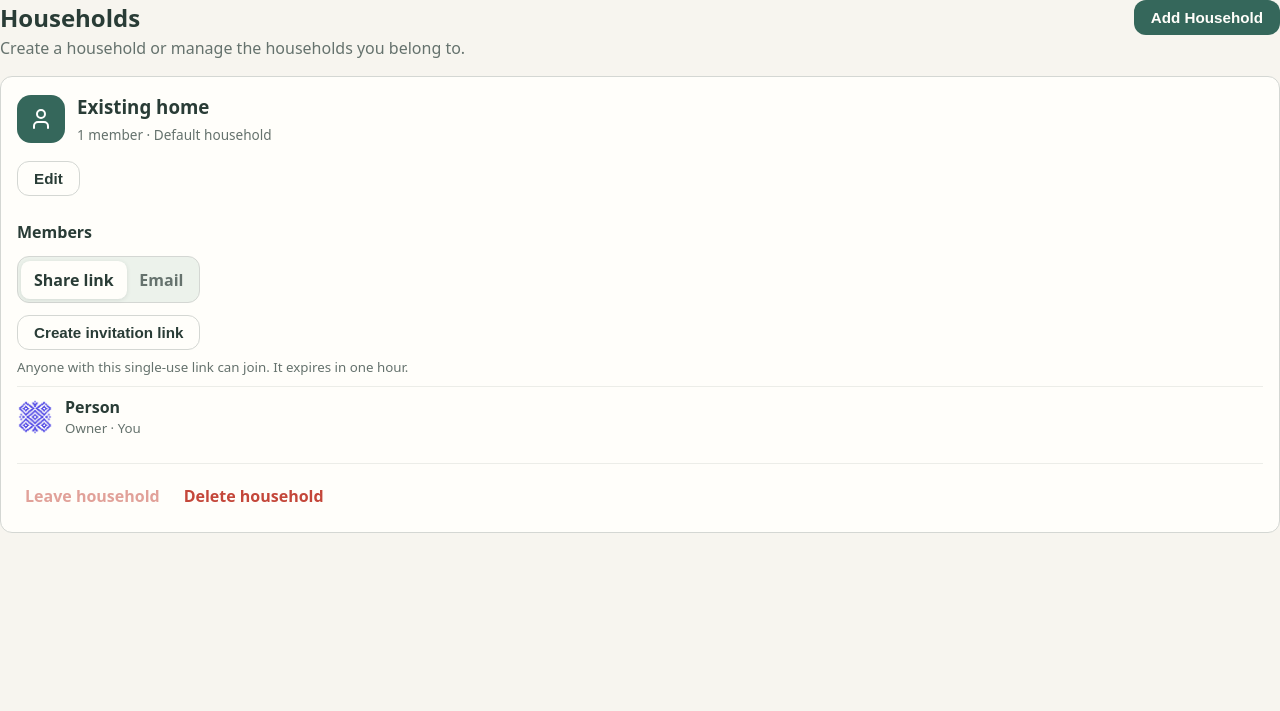
Scenario: household currency settings › opens household creation in a modal when the user already has a household
expect the field labelled "Name" is not shown: met
Click the button "Add Household" at [1207, 18], box [1134,0,1279,35]
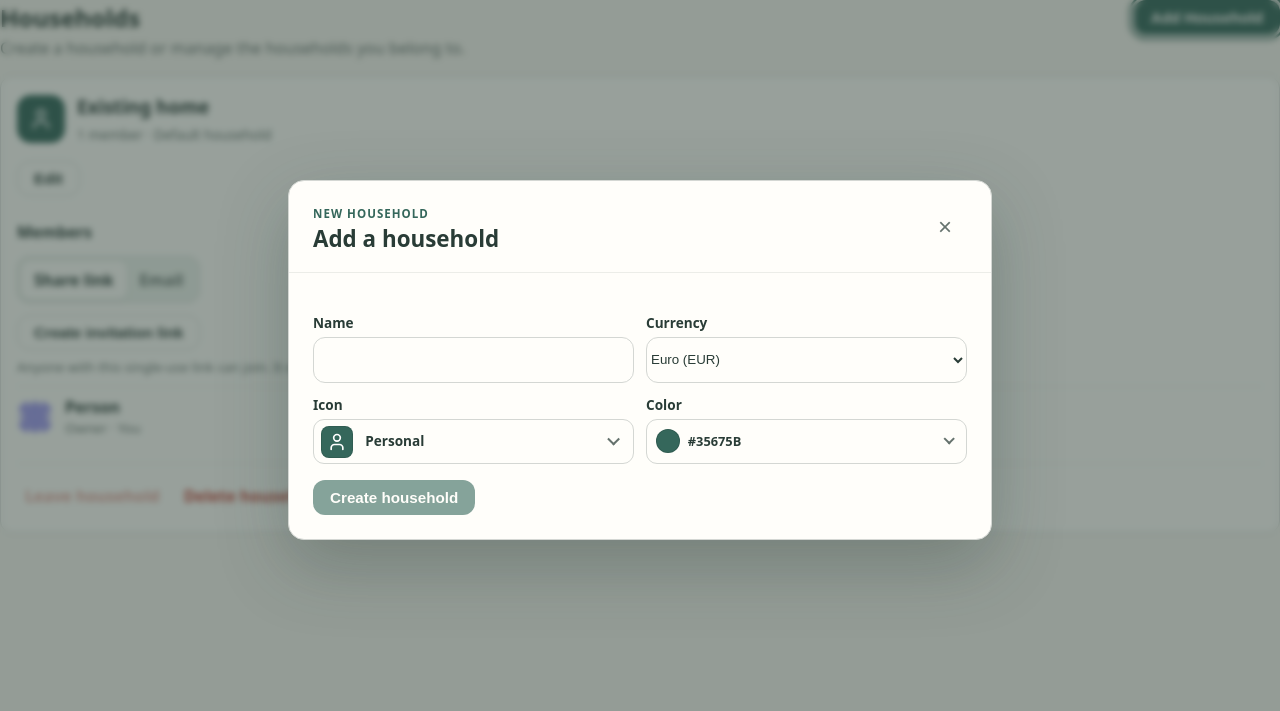
Type "Second home" into the field labelled "Name" at [474, 360], box [313,337,634,383]
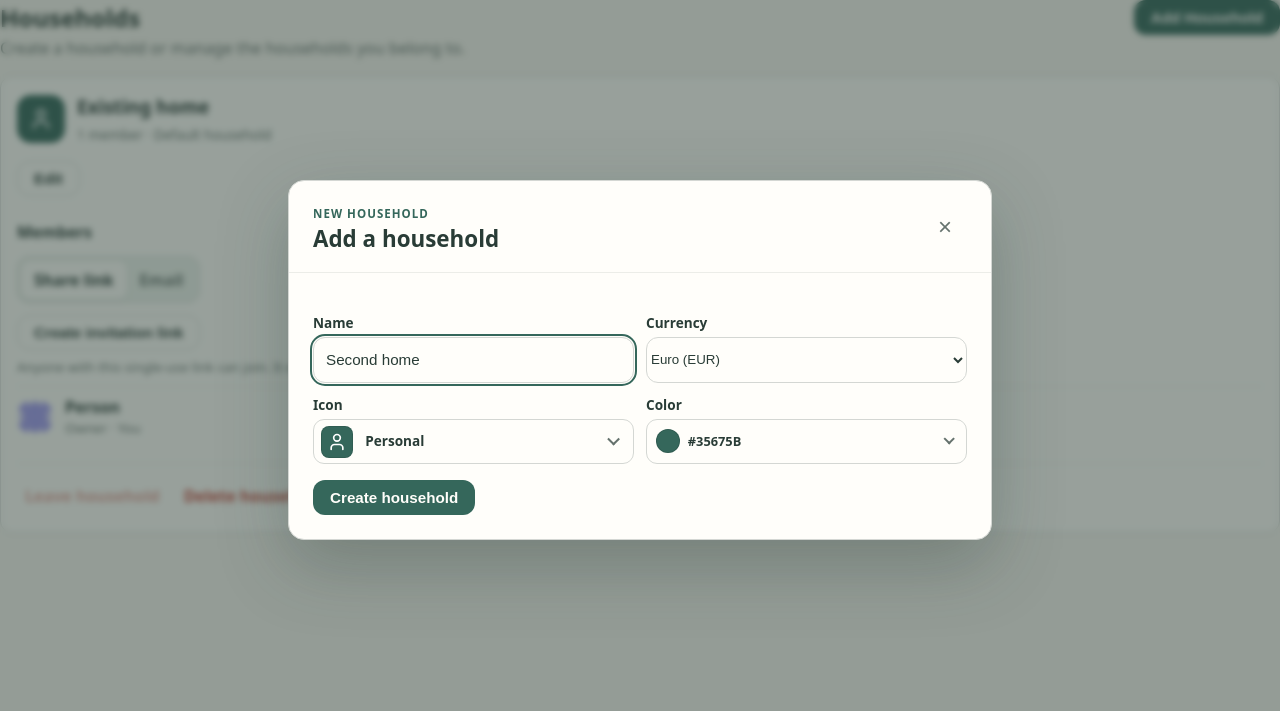
Select "US dollar (USD)" in the dropdown labelled "Currency" at [806, 360], box [646,337,967,383]
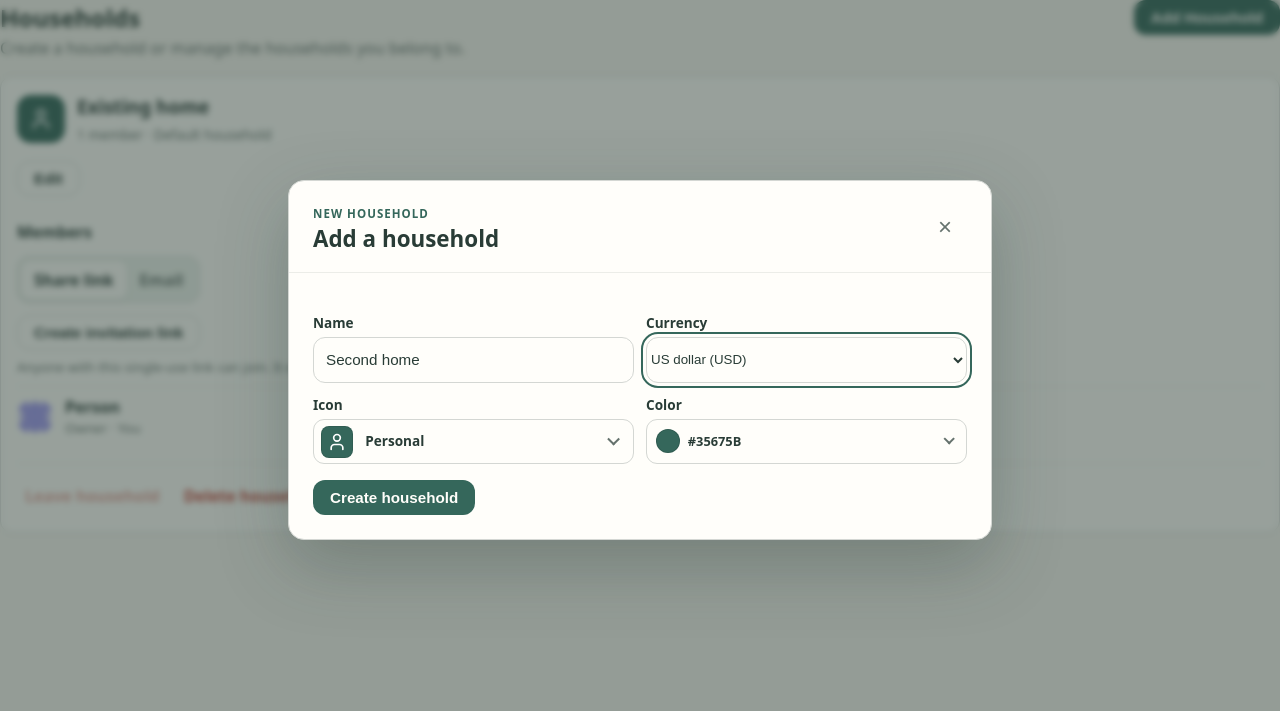
Click the button "Create household" at [394, 498], box [313,480,475,515]
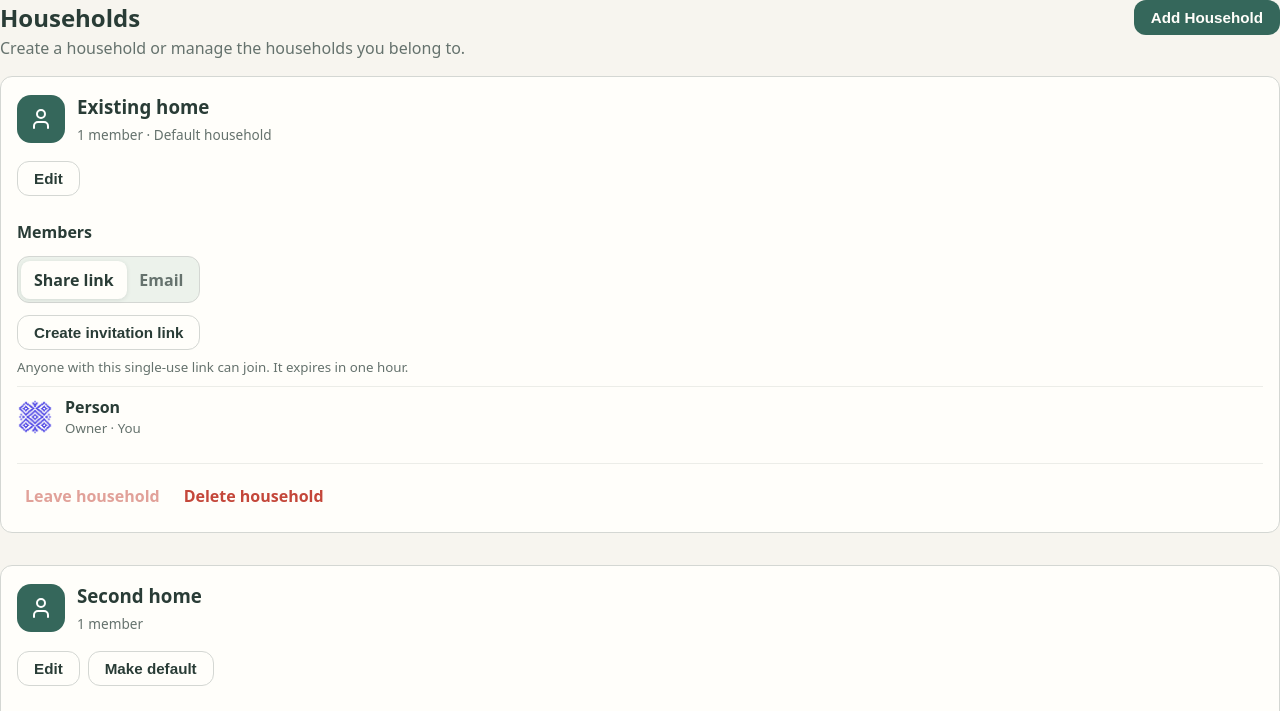
expect the dialog is gone: met
